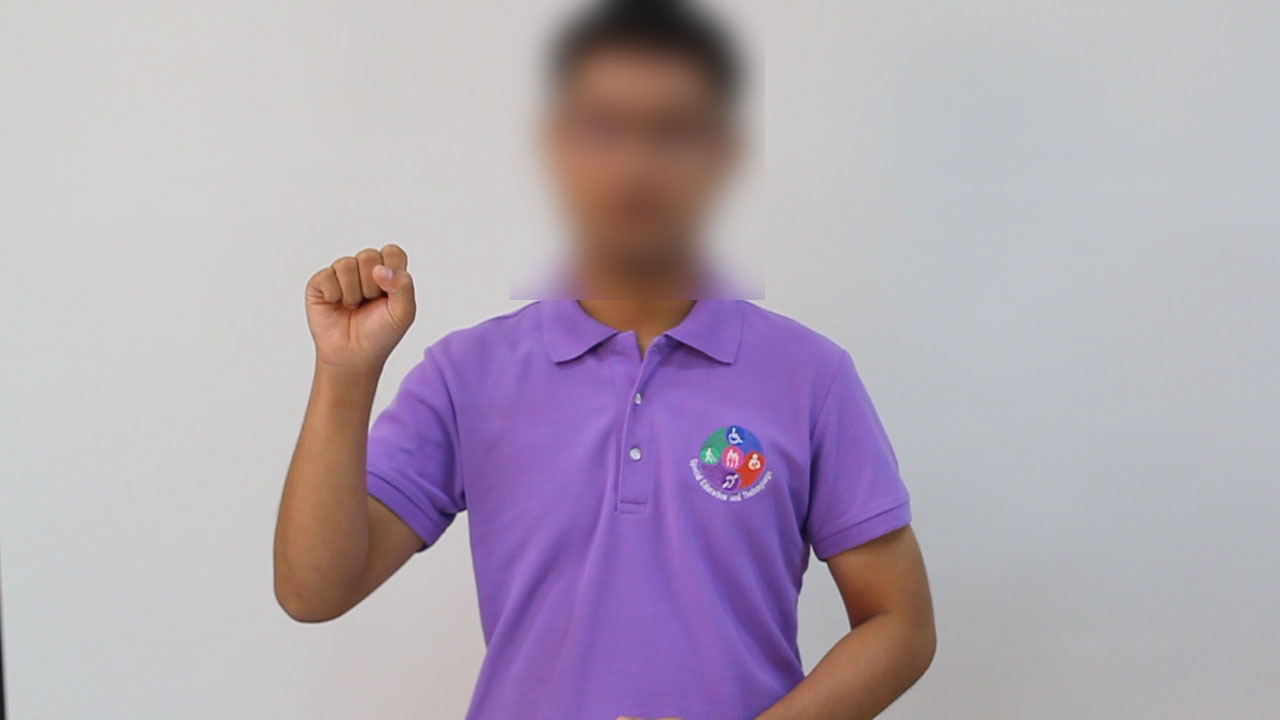sor: (299, 230, 425, 371)
